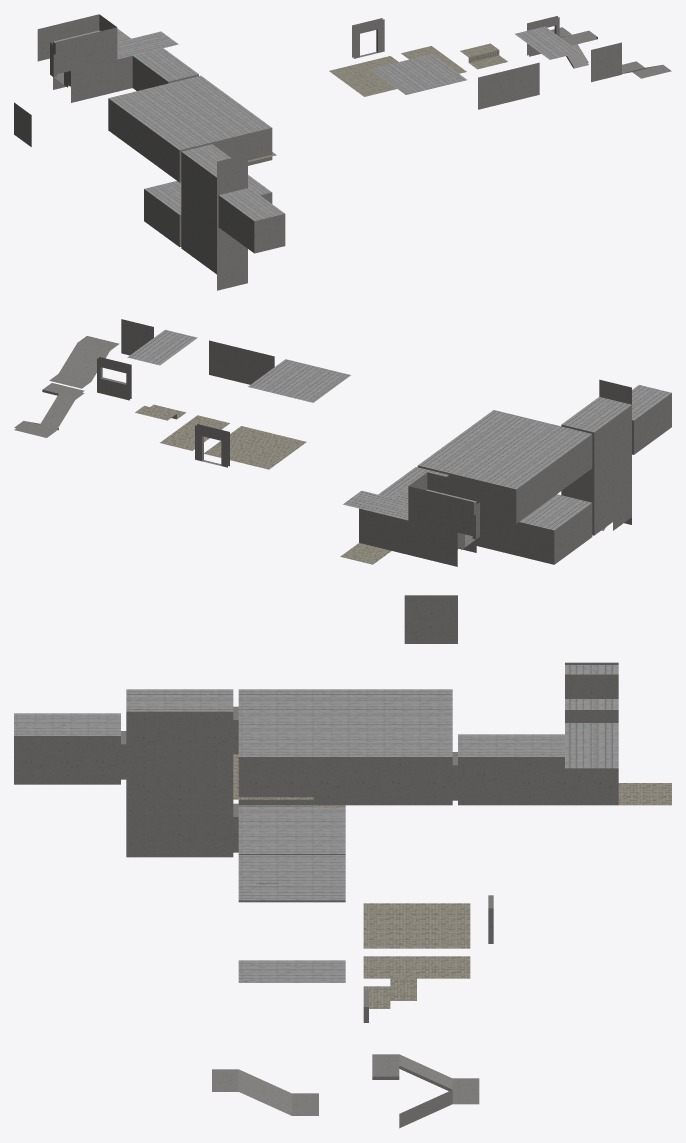
File: bunker-transformed.glb
3 renders of one model, top to bottom at view 1: azimuth 30°, elevation 25°; view 2: azimuth 150°, elevation 25°; view 3: azimuth 270°, elevation 25°, orthographic. The views are drawn at different scales.
Parts seen in each view (by area): view 1: wall.044_Wall1_0, ceiling.011_Ceiling1_0, stairs.004_Wall1.001_0, ceiling.013_Ceiling1.001_0, floor.015_Floor1.001_0; view 2: wall.044_Wall1_0, ceiling.011_Ceiling1_0, stairs.004_Wall1.001_0, ceiling.013_Ceiling1.001_0, floor.015_Floor1.001_0, floor.012_Floor1_0; view 3: wall.044_Wall1_0, ceiling.011_Ceiling1_0, floor.015_Floor1.001_0, ceiling.013_Ceiling1.001_0, stairs.004_Wall1.001_0, floor.012_Floor1_0.
Part boxes in pixels (x1,y1,x2,y2): wall.044_Wall1_0: (14, 14, 285, 290); ceiling.011_Ceiling1_0: (53, 28, 284, 221); stairs.004_Wall1.001_0: (352, 16, 671, 109); ceiling.013_Ceiling1.001_0: (370, 26, 580, 94); floor.015_Floor1.001_0: (329, 43, 507, 96); wall.044_Wall1_0: (359, 379, 671, 566); ceiling.011_Ceiling1_0: (343, 385, 671, 530); stairs.004_Wall1.001_0: (14, 319, 274, 467); ceiling.013_Ceiling1.001_0: (127, 329, 350, 402); floor.015_Floor1.001_0: (135, 404, 306, 469); floor.012_Floor1_0: (340, 543, 391, 564); wall.044_Wall1_0: (14, 595, 618, 902); ceiling.011_Ceiling1_0: (14, 665, 618, 853); floor.015_Floor1.001_0: (363, 903, 470, 1008); ceiling.013_Ceiling1.001_0: (238, 855, 345, 982); stairs.004_Wall1.001_0: (212, 895, 493, 1128); floor.012_Floor1_0: (233, 754, 671, 807).
Bounding box in the file's own units: 56 × 13.5 × 36.9.
6 materials, 6 textured.
